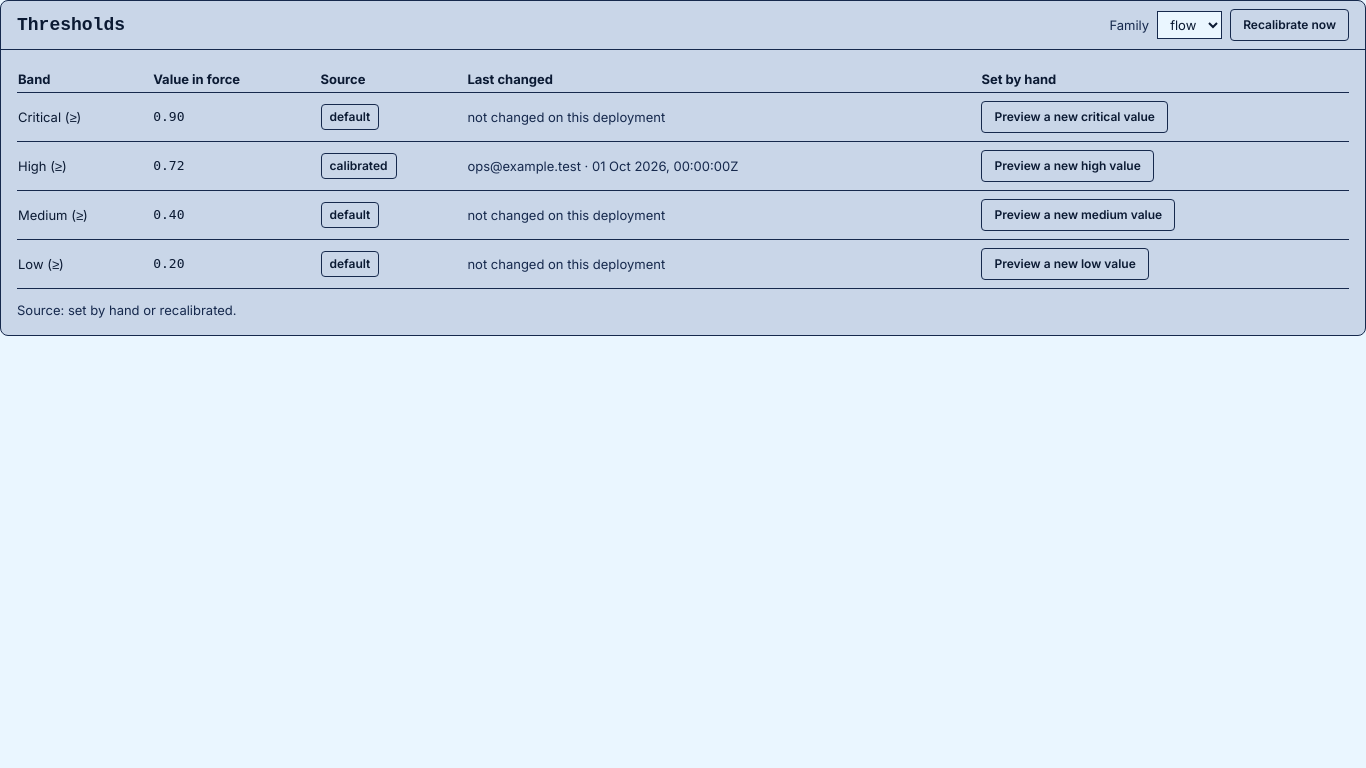
Test case: ThresholdsPanel › refuses to save the value already in force
Click the button "Preview a new high value" at (1068, 166), box top-left (981, 150), bottom-right (1154, 182)
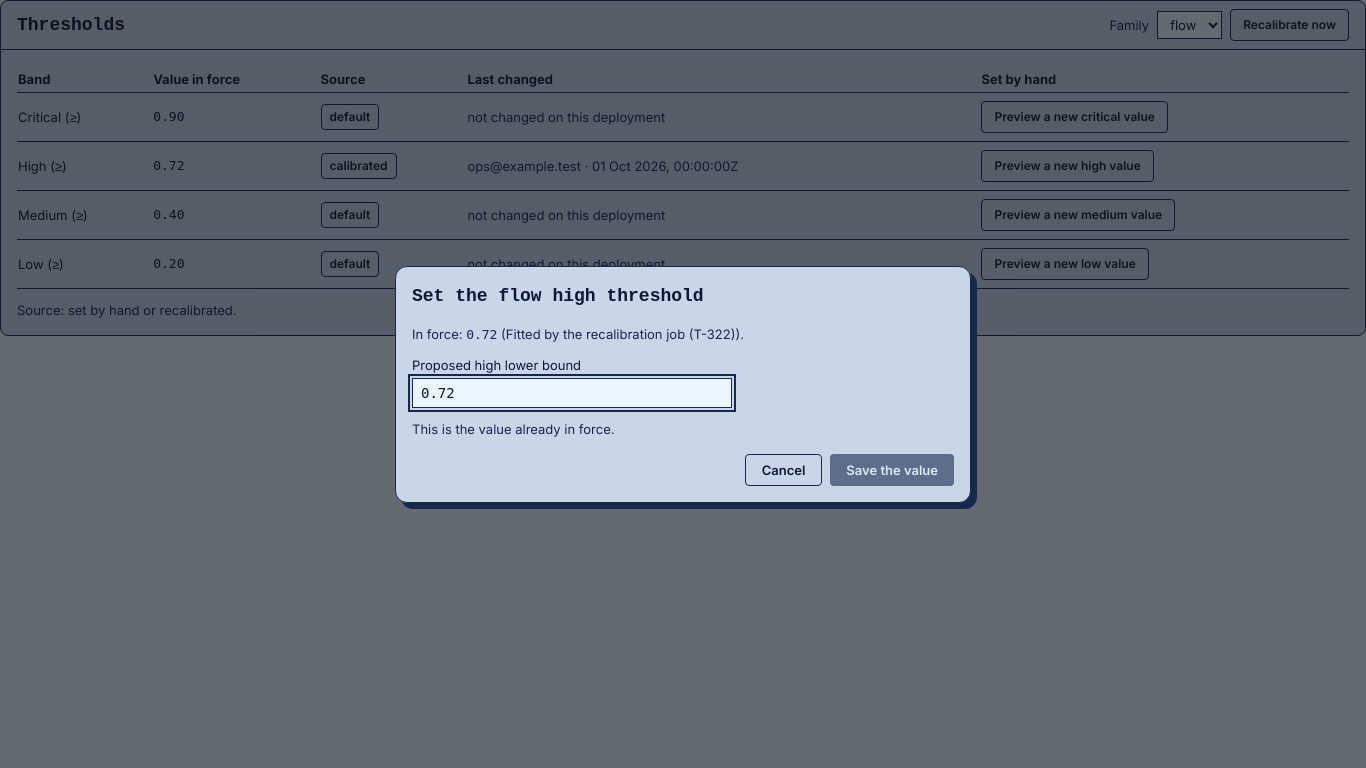
Now the button "Save the value" is disabled, box top-left (830, 454), bottom-right (954, 486)
Now the text "This is the value already in force." is shown, box top-left (412, 420), bottom-right (614, 436)
